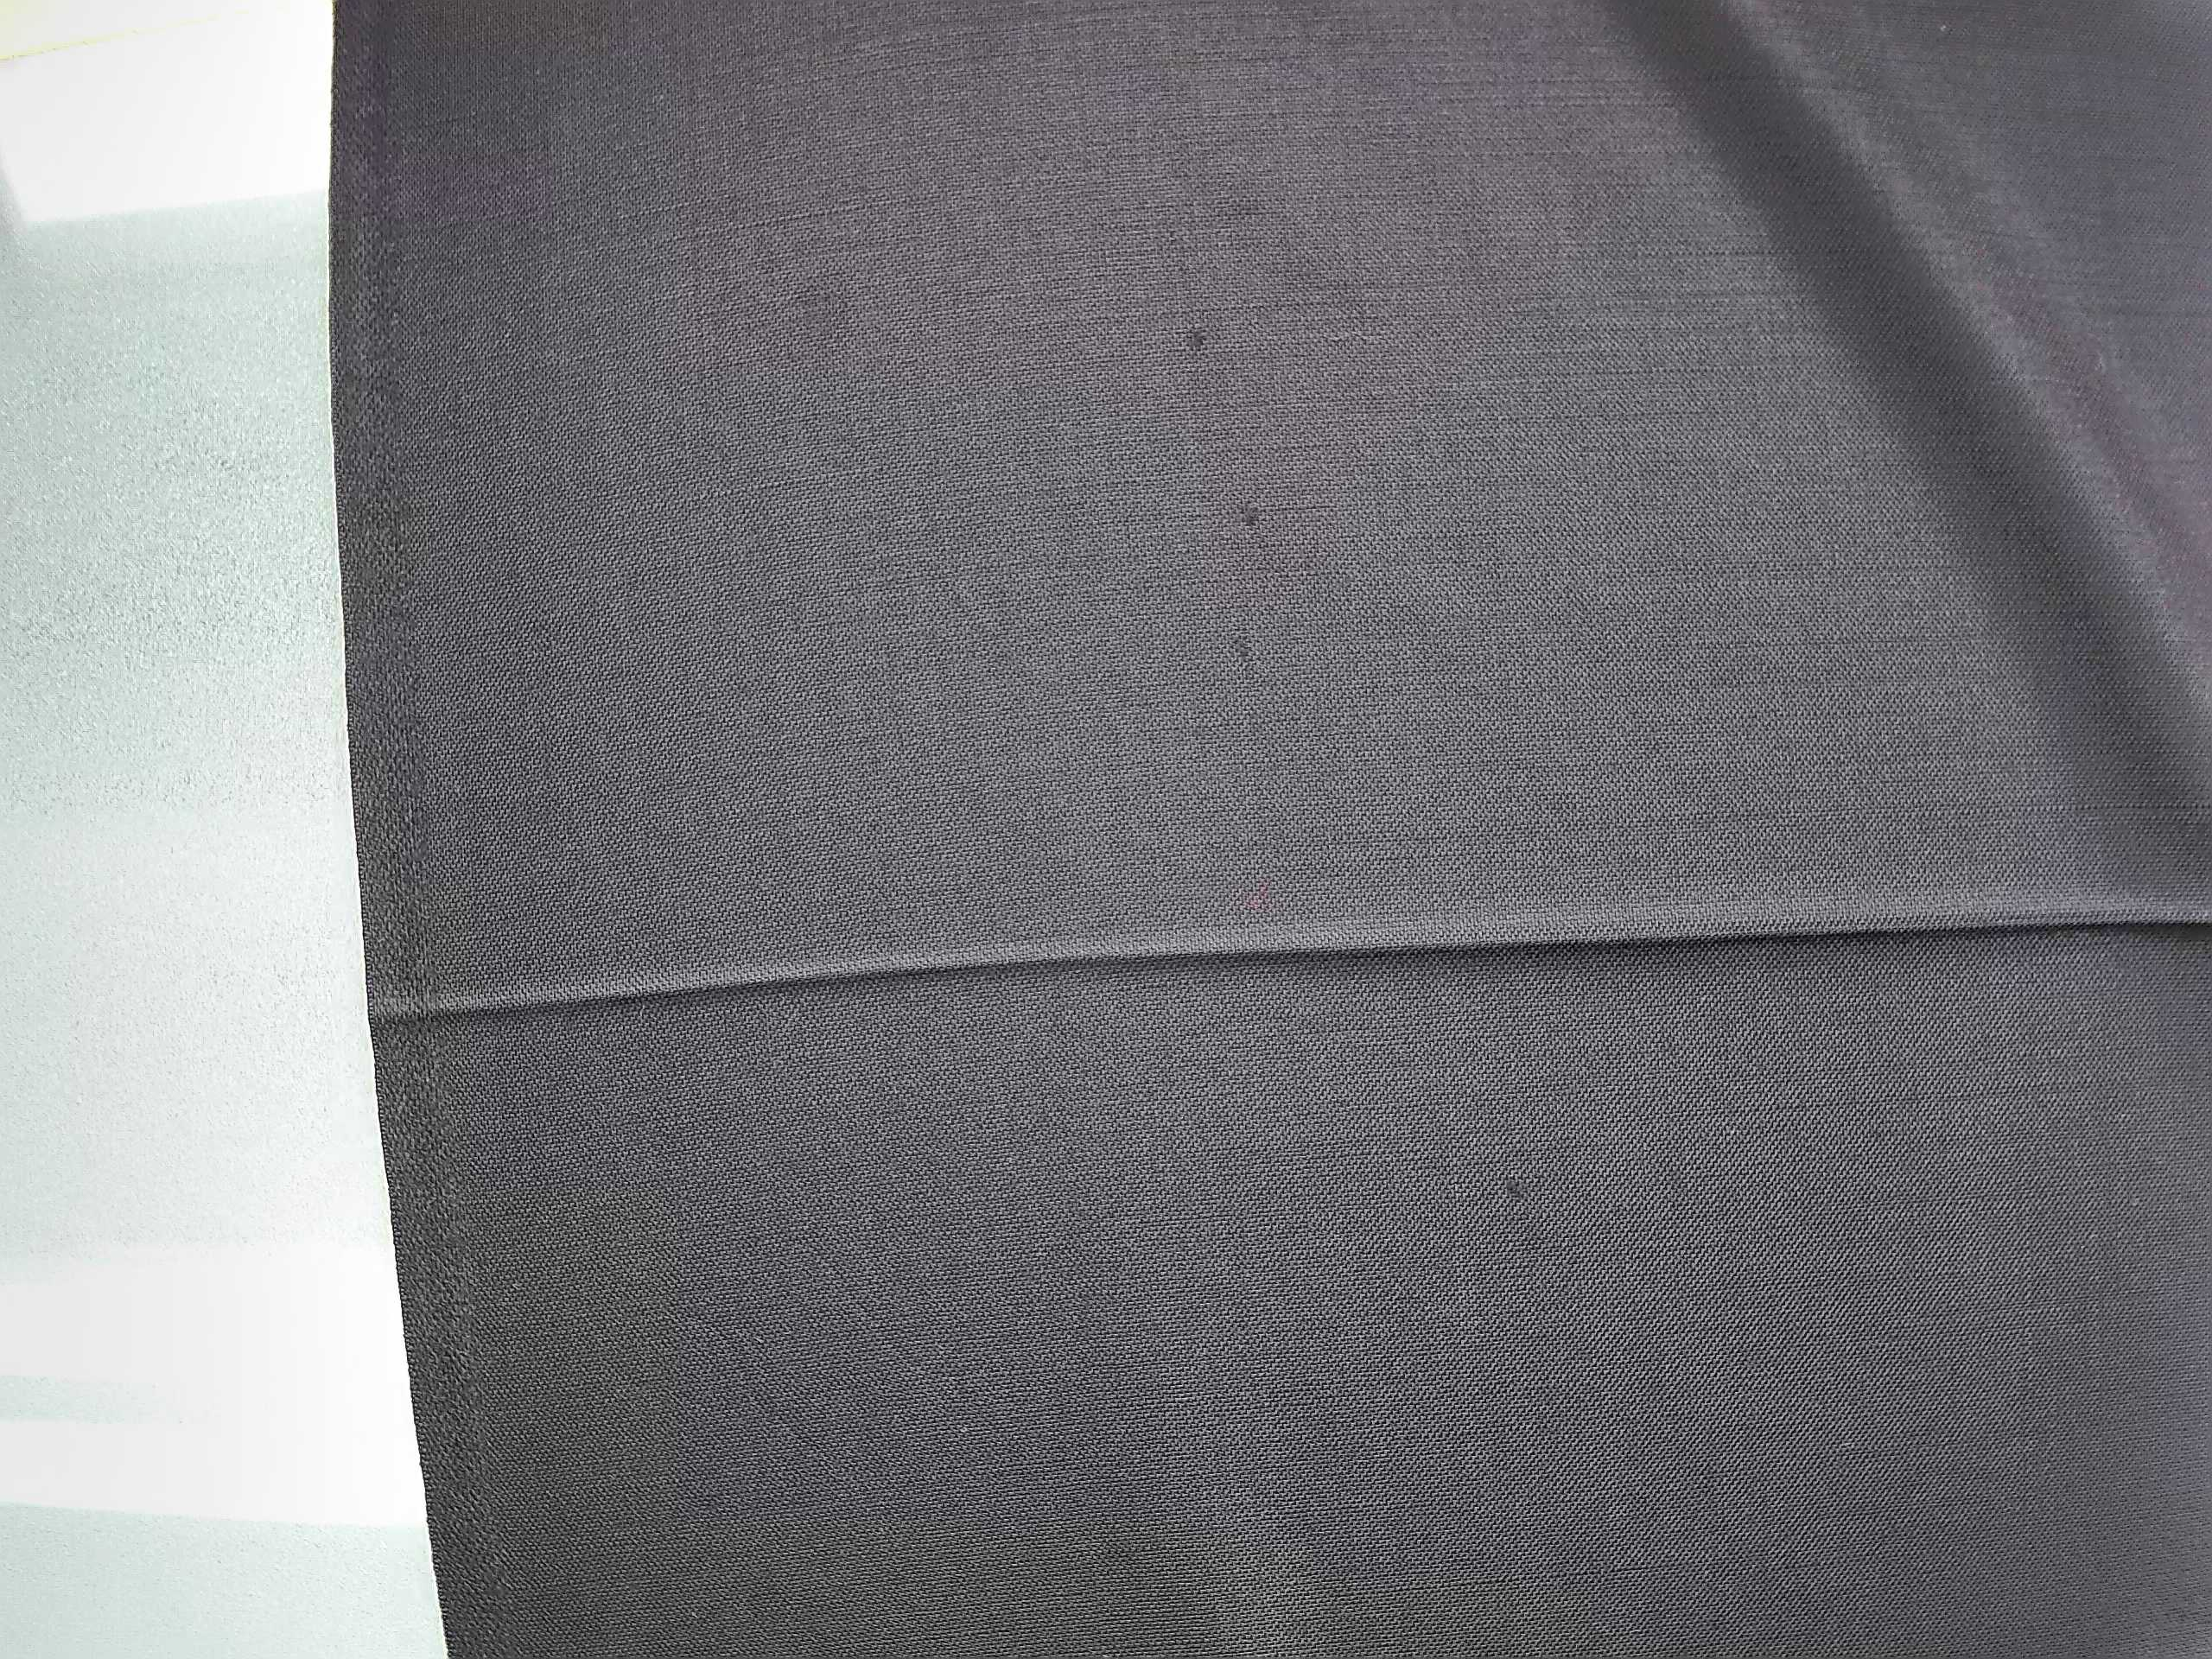rubbing-hole: (1484, 1159, 1550, 1222), (1217, 481, 1280, 547), (1169, 308, 1224, 369), (1216, 624, 1270, 676)
